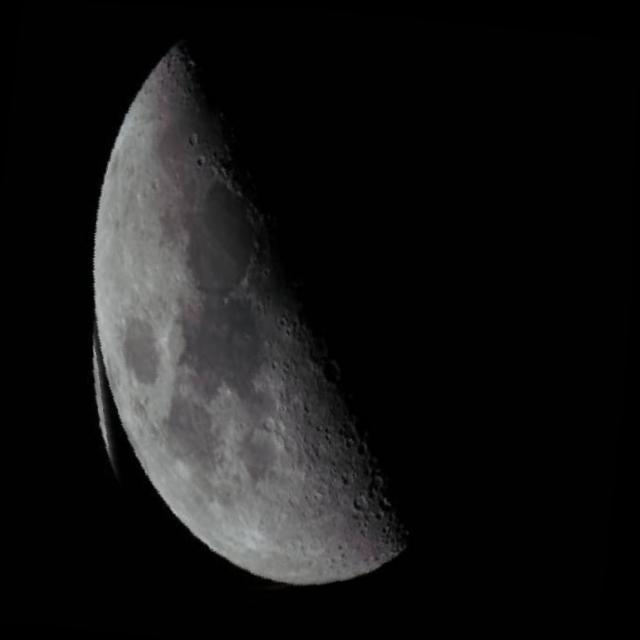moon: (48, 2, 571, 640)
